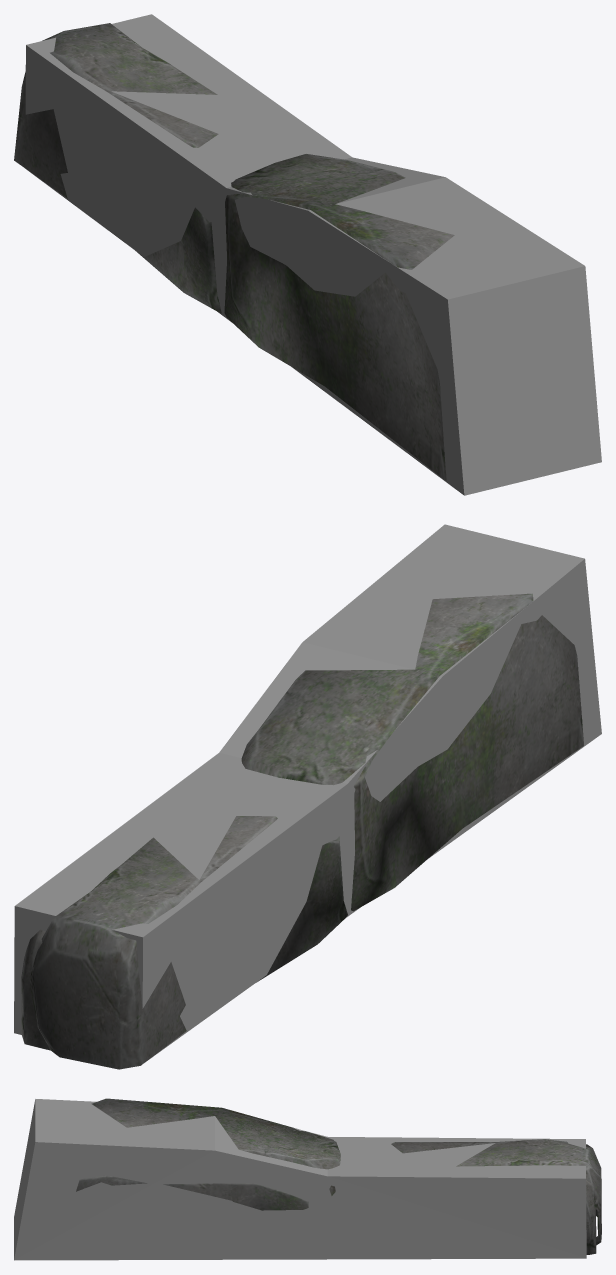
File: Scene_Rock_SuiShiTi_7.fbx
The picture shows the model from 3 angles, top to bottom: view 1: azimuth 30°, elevation 25°; view 2: azimuth 150°, elevation 25°; view 3: azimuth 270°, elevation 25°; orthographic projection. The views are drawn at different scales.
Parts seen in each view (by area): view 1: Scene_Rock_SuiShiTi_7_Xzm, Scene_Rock_SuiShiTi_7; view 2: Scene_Rock_SuiShiTi_7, Scene_Rock_SuiShiTi_7_Xzm; view 3: Scene_Rock_SuiShiTi_7_Xzm, Scene_Rock_SuiShiTi_7.
Part boxes in pixels (<box>): Scene_Rock_SuiShiTi_7_Xzm: <box>25,14,601,495</box>; Scene_Rock_SuiShiTi_7: <box>14,23,454,480</box>; Scene_Rock_SuiShiTi_7: <box>21,593,583,1069</box>; Scene_Rock_SuiShiTi_7_Xzm: <box>14,524,601,1060</box>; Scene_Rock_SuiShiTi_7_Xzm: <box>14,1099,586,1260</box>; Scene_Rock_SuiShiTi_7: <box>76,1098,601,1254</box>.
Bounding box in the file's own units: 60.48 × 77.06 × 341.
